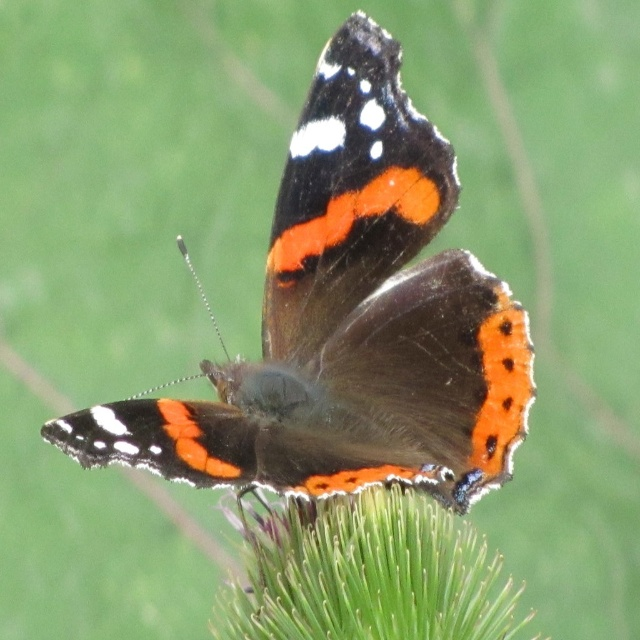Butterfly: (71, 28, 528, 575)
